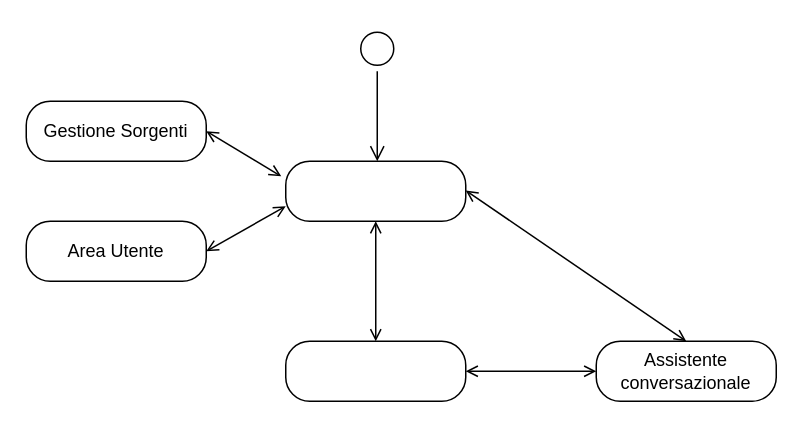
Image size: 803x428. Some labels were removed from this diagram. The centre of each missing label's shape, as x and y in pixels:
"Bacheca" goes at (375,190).
"Notizia" goes at (375,370).
